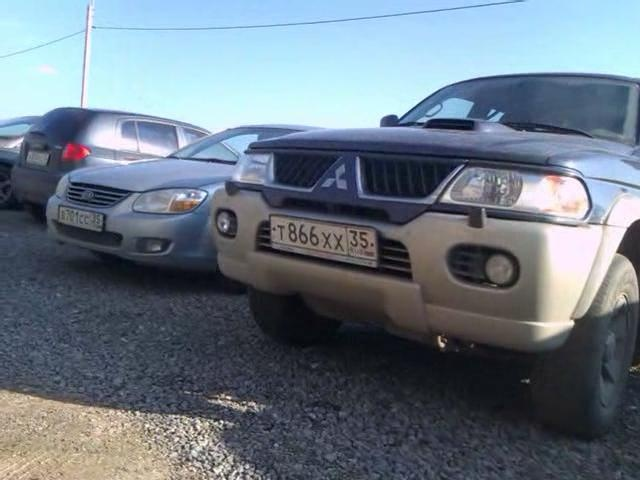car license plate: (267, 215, 377, 274), (55, 203, 106, 234), (26, 148, 51, 165)
